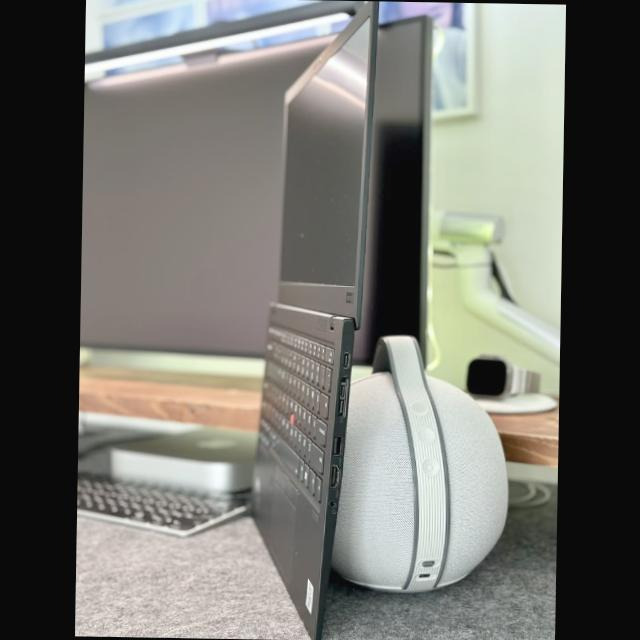laptop: (253, 1, 378, 639)
